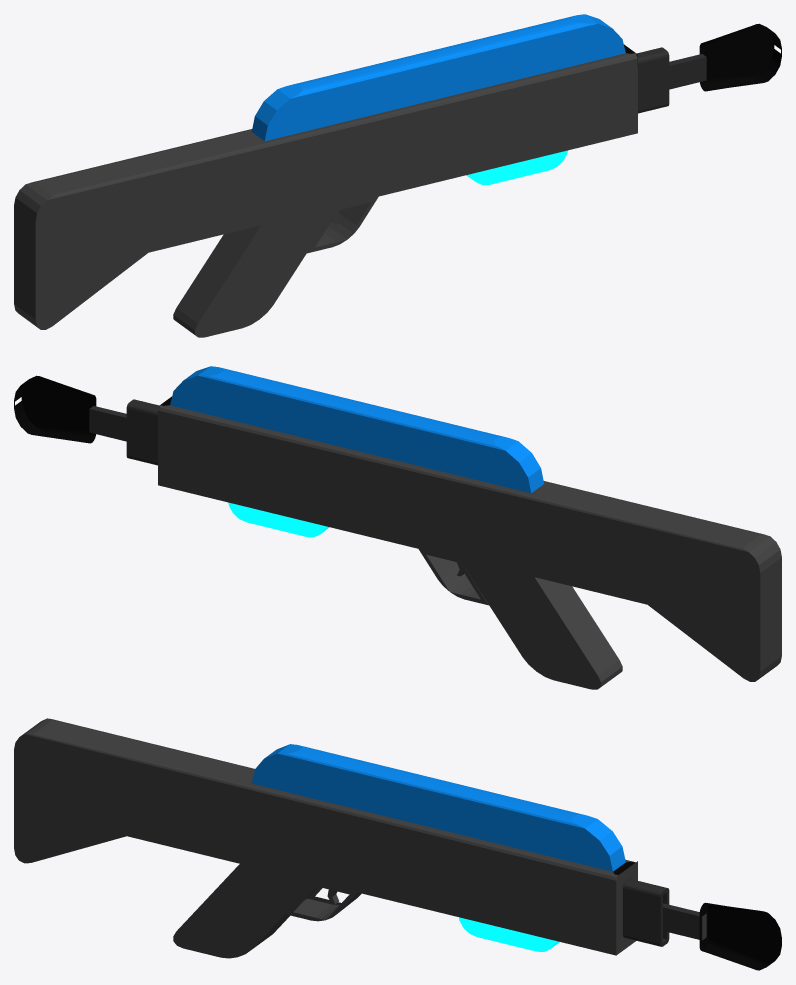
The model's file is assault_rifle.fbx.
The picture shows the model from 3 angles, top to bottom: view 1: azimuth 30°, elevation 25°; view 2: azimuth 150°, elevation 25°; view 3: azimuth 330°, elevation 25°; orthographic projection.
Visible parts, largest first — view 1: Body, Top, HandleTrigger, Exit, Guard, Battery; view 2: Body, Top, HandleTrigger, Exit, Guard, Battery; view 3: Body, Top, HandleTrigger, Exit, Guard, Battery.
Boxes of the visible parts, x1=… form: Body: x1=14, y1=44, x2=637, y2=329; Top: x1=251, y1=14, x2=625, y2=141; HandleTrigger: x1=173, y1=196, x2=378, y2=337; Exit: x1=624, y1=23, x2=781, y2=91; Guard: x1=637, y1=47, x2=706, y2=113; Battery: x1=466, y1=150, x2=567, y2=185; Body: x1=158, y1=396, x2=781, y2=681; Top: x1=170, y1=366, x2=544, y2=493; HandleTrigger: x1=418, y1=549, x2=622, y2=689; Exit: x1=14, y1=375, x2=171, y2=443; Guard: x1=89, y1=399, x2=158, y2=465; Battery: x1=228, y1=502, x2=329, y2=537; Body: x1=14, y1=718, x2=637, y2=955; Top: x1=252, y1=744, x2=625, y2=871; HandleTrigger: x1=173, y1=864, x2=361, y2=958; Exit: x1=613, y1=861, x2=781, y2=970; Guard: x1=623, y1=879, x2=706, y2=946; Battery: x1=459, y1=917, x2=559, y2=951.
Bounding box in the file's own units: 200 × 55 × 9.96.
